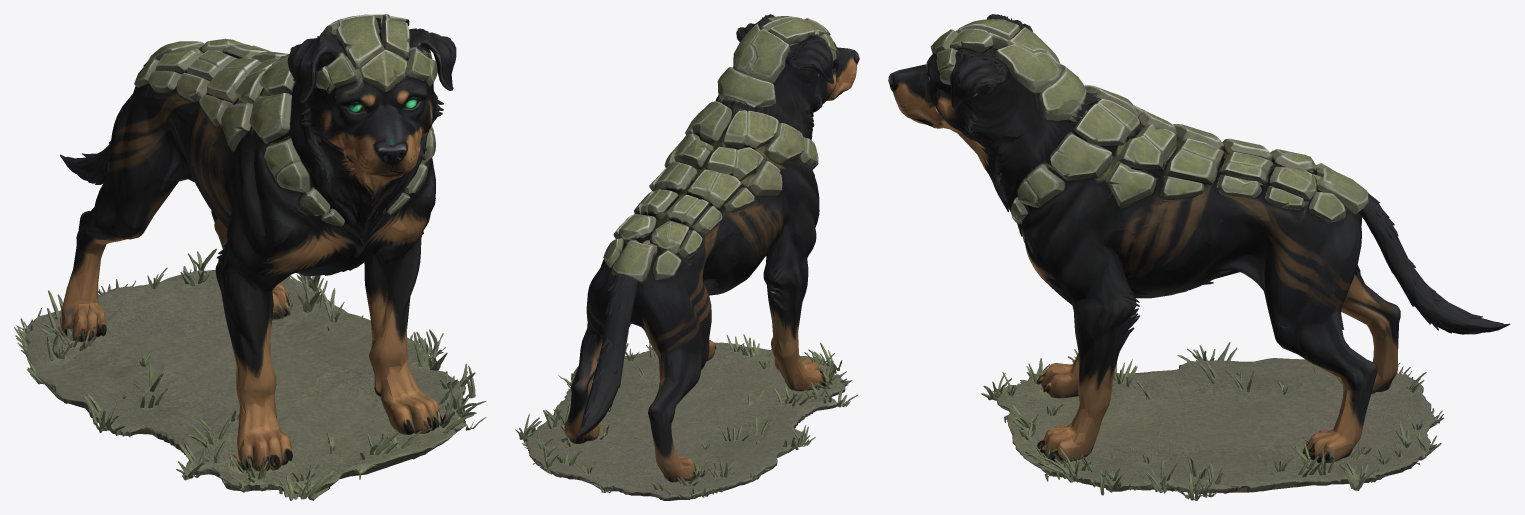
Rendered from terrapup_a.glb.
The picture shows the model from 3 angles, left to right: view 1: azimuth 30°, elevation 25°; view 2: azimuth 150°, elevation 25°; view 3: azimuth 270°, elevation 25°; orthographic projection. The views are drawn at different scales.
Visible parts, largest first — view 1: Mesh_0; view 2: Mesh_0; view 3: Mesh_0.
Boxes of the visible parts, x1,y1,x2,y2 form: Mesh_0: [14, 14, 486, 500]; Mesh_0: [515, 14, 859, 500]; Mesh_0: [888, 14, 1510, 500].
Bounding box in the file's own units: 1.07 × 1.35 × 1.9.
1 material, 1 textured.
